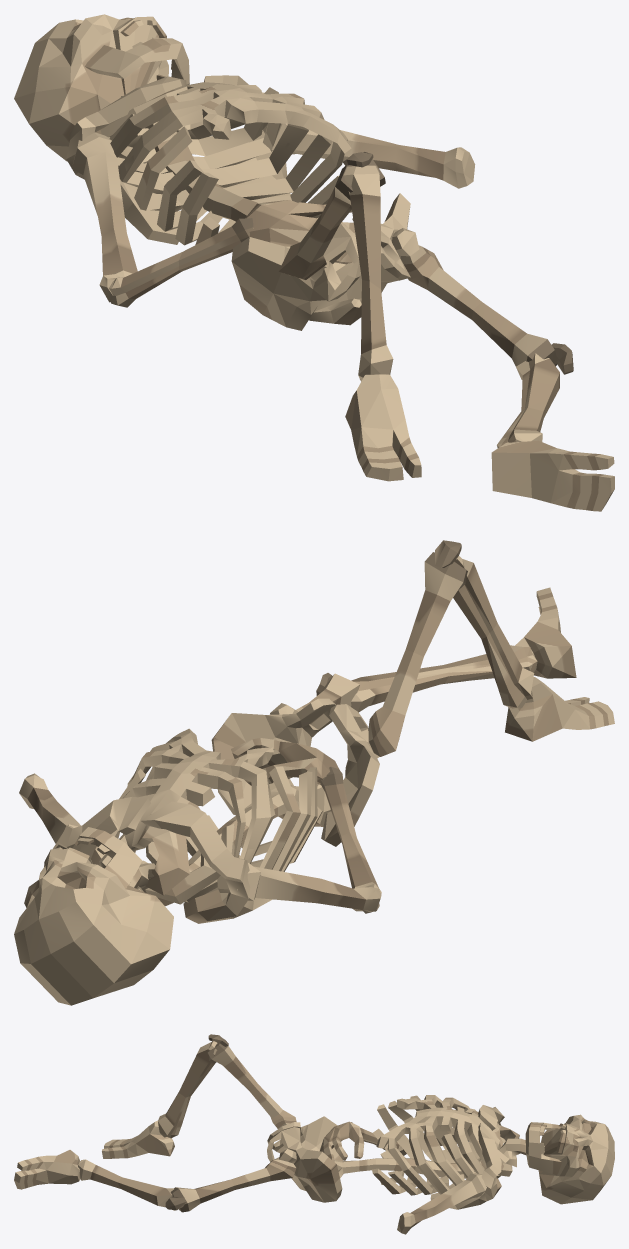
File: SM_Prop_Skeleton_05.fbx
3 views of the same model, one above another, from view 1: azimuth 30°, elevation 25°; view 2: azimuth 150°, elevation 25°; view 3: azimuth 270°, elevation 25° (orthographic). The views are drawn at different scales.
Parts seen in each view (by area): view 1: SM_Prop_Skeleton_05; view 2: SM_Prop_Skeleton_05; view 3: SM_Prop_Skeleton_05.
Part boxes in pixels (x1=…): SM_Prop_Skeleton_05: x1=14, y1=14, x2=614, y2=511; SM_Prop_Skeleton_05: x1=14, y1=540, x2=614, y2=1005; SM_Prop_Skeleton_05: x1=14, y1=1034, x2=614, y2=1234.
Bounding box in the file's own units: 73.34 × 49.41 × 181.
